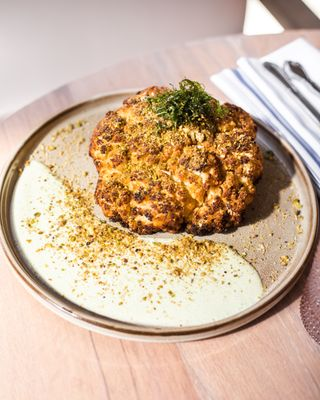burger: (209, 53, 320, 197)
